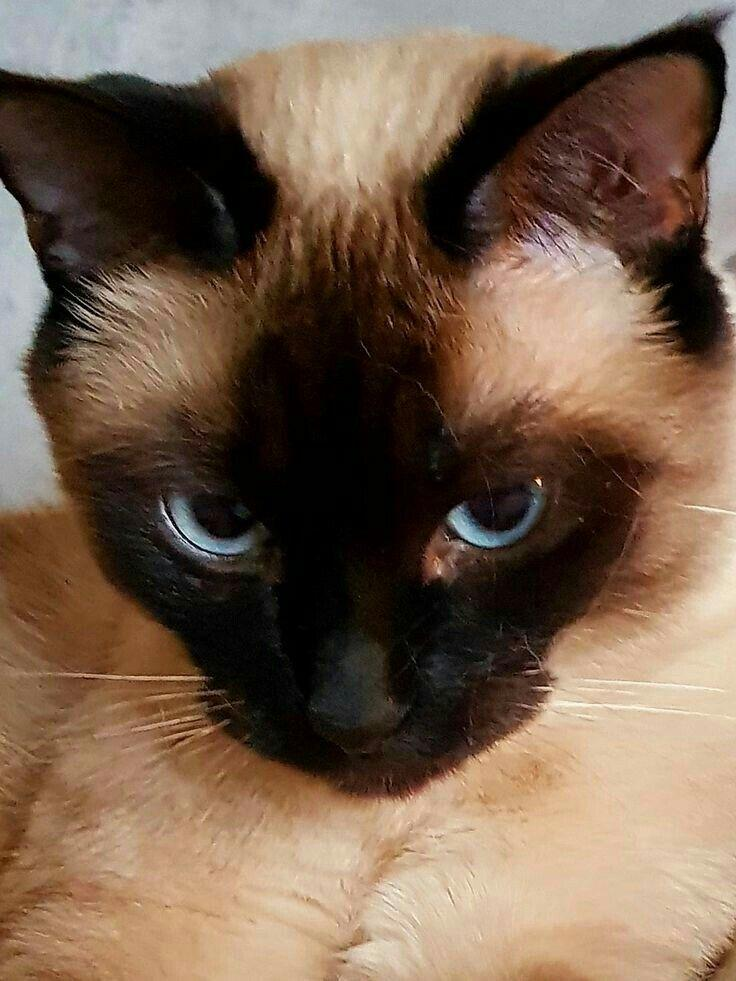siamese: (1, 1, 736, 822)
